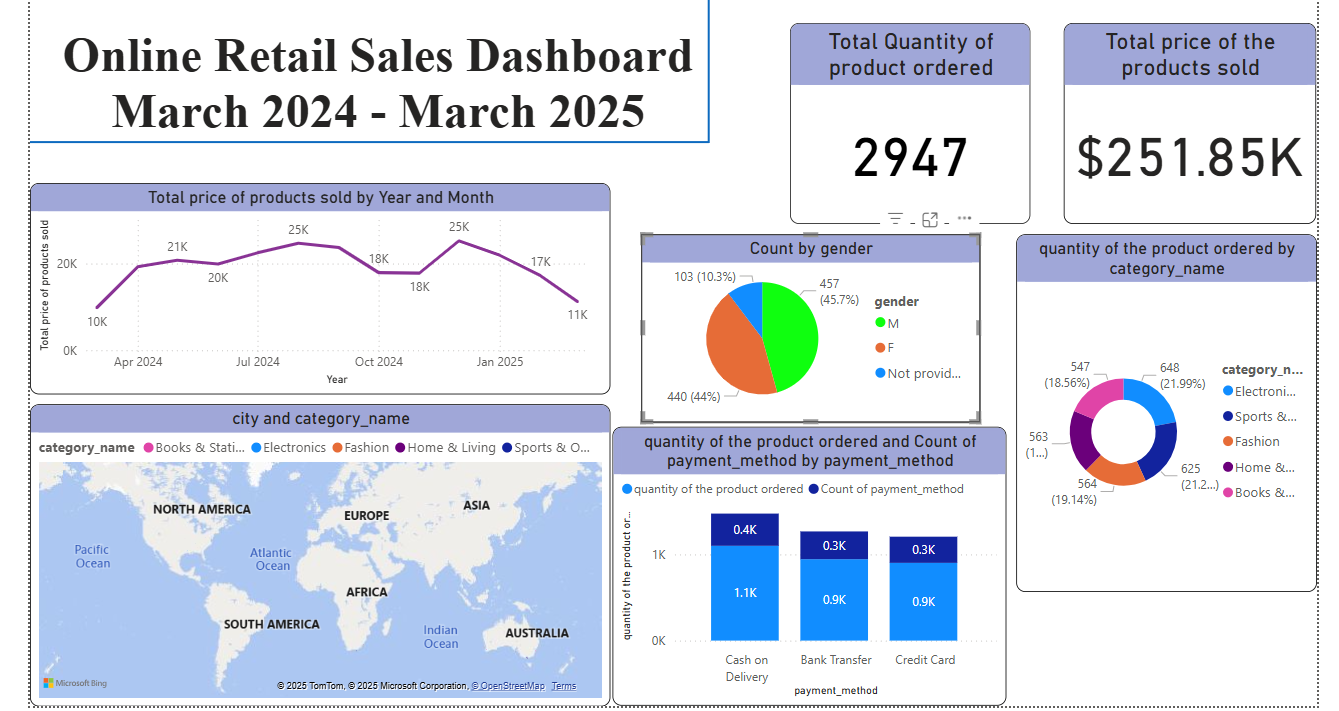

The dashboard page shown, as its layout file describes it:
{"tool":"powerbi","page":{"name":"Sales dashboard 1","canvas":[1280,720],"ordinal":0},"visuals":[{"type":"columnChart","fields":{"Category":["synthetic_online_retail_data.payment_method"],"Y":["Sum(synthetic_online_retail_data.quantity)","CountNonNull(synthetic_online_retail_data.payment_method)"]},"box":[580.2,441.9,391.9,277.9],"z":0},{"type":"textbox","box":[0,39.5,693,125.6],"z":1000},{"type":"shape","box":[0,66.3,675.6,184.9],"z":2000},{"type":"shape","box":[475.2,0,400.6,159.2],"z":3000},{"type":"card","title":"Total Quantity of product ordered","fields":{"Values":["Sum(synthetic_online_retail_data.quantity)"]},"box":[755.8,39.5,239.5,200],"z":4000},{"type":"filledMap","fields":{"Category":["synthetic_online_retail_data.city"],"Series":["synthetic_online_retail_data.category_name"]},"box":[0,419.8,577.9,301.2],"z":5000},{"type":"donutChart","fields":{"Category":["synthetic_online_retail_data.category_name"],"Y":["Sum(synthetic_online_retail_data.quantity)"]},"box":[981.4,250,298.8,355.8],"z":6000},{"type":"pieChart","fields":{"Category":["synthetic_online_retail_data.gender"],"Y":["CountNonNull(synthetic_online_retail_data.gender)"]},"box":[608.1,250,337.2,188.4],"z":7000},{"type":"card","title":"Total price of the products sold","fields":{"Values":["Sum(synthetic_online_retail_data.price)"]},"box":[1029.1,39.5,251.2,200],"z":8000},{"type":"lineChart","fields":{"Y":["Sum(synthetic_online_retail_data.price)"],"Category":["synthetic_online_retail_data.order_date.Variation.Date Hierarchy.Year","synthetic_online_retail_data.order_date.Variation.Date Hierarchy.Month"]},"box":[0,198.8,577.9,210.5],"z":9000}]}

Visuals, with their boxes in screenshot pixels (x1, y1, x2, y2):
columnChart - synthetic_online_retail_data.payment_method x Sum(synthetic_online_retail_data.quantity): (610,422,1006,703)
textbox: (24,15,724,142)
shape: (24,43,707,229)
shape: (504,0,909,136)
"Total Quantity of product ordered" card: (788,15,1030,218)
filledMap - synthetic_online_retail_data.city x synthetic_online_retail_data.category_name: (24,400,608,704)
donutChart - synthetic_online_retail_data.category_name x Sum(synthetic_online_retail_data.quantity): (1016,228,1318,588)
pieChart - synthetic_online_retail_data.gender x CountNonNull(synthetic_online_retail_data.gender): (639,228,979,418)
"Total price of the products sold" card: (1064,15,1318,218)
lineChart - Sum(synthetic_online_retail_data.price) x synthetic_online_retail_data.order_date.Variation.Date Hierarchy.Year: (24,176,608,389)
